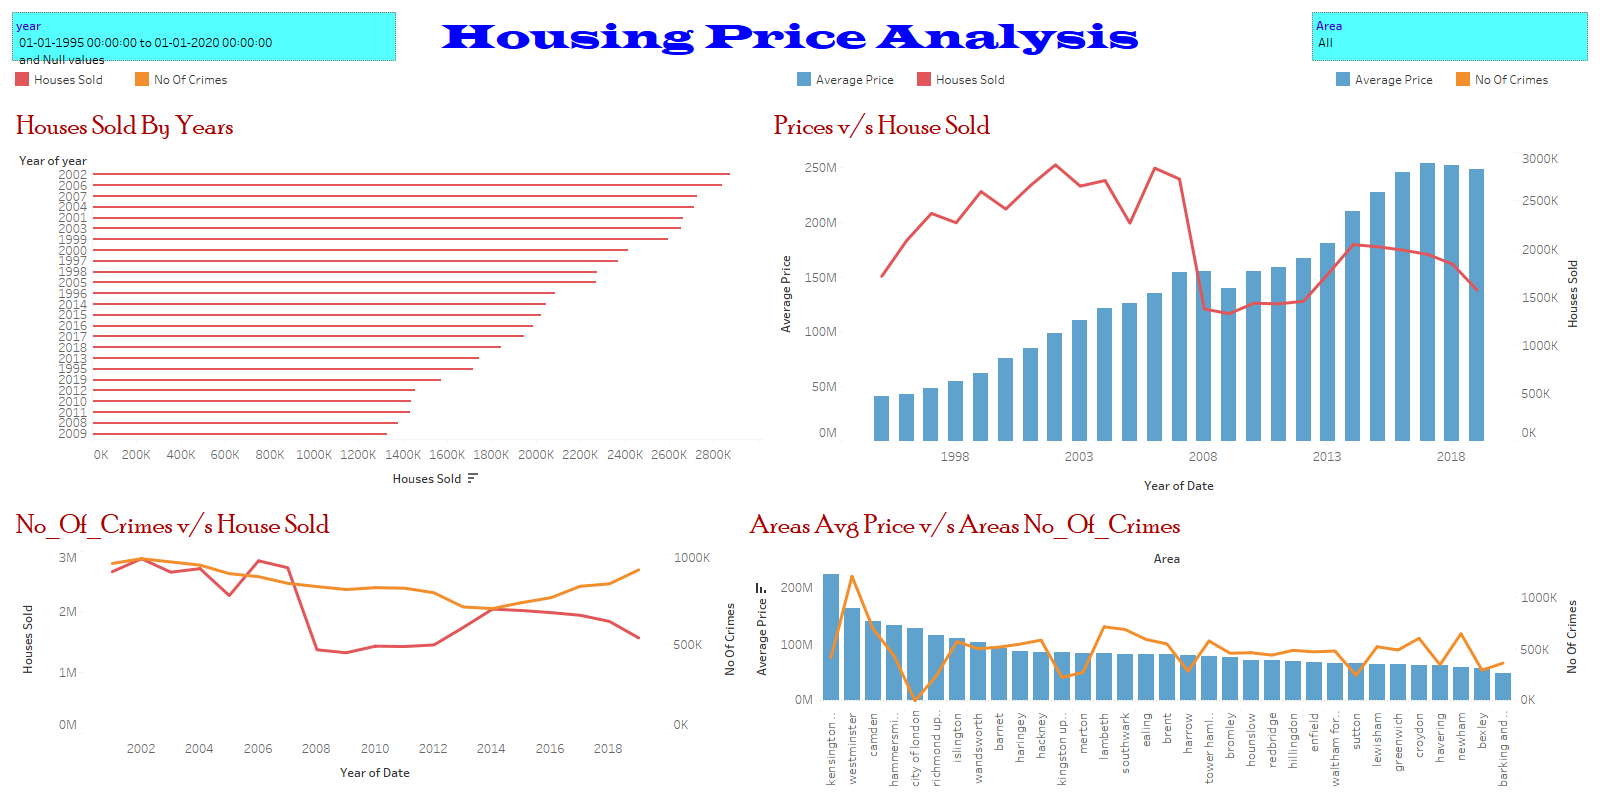

What the dashboard file says about the page in this screenshot:
{"tool":"tableau","page":{"name":"Dashboard 1","canvas":[1600,800],"ordinal":0},"visuals":[{"type":"filter","title":"Sheet 8","param":"[federated.1np54c31tf33lu107bm5r0kuviu3].[none:Calculation_979532970923896832:qk","box":[8,8,395.8,57.3]},{"type":"worksheet","title":"Sheet 8","mark":"Automatic","box":[403.8,8,30.1,57.3]},{"type":"text","box":[433.9,8,873.8,57.3]},{"type":"filter","title":"Sheet 8","param":"[federated.1np54c31tf33lu107bm5r0kuviu3].[none:area:nk]","box":[1307.7,8,284.3,57.3]},{"type":"legend","title":"Sheet 2","param":"[federated.1np54c31tf33lu107bm5r0kuviu3].[:Measure Names]","box":[8,65.3,710,33.5]},{"type":"legend","title":"Sheet 3","param":"[federated.1np54c31tf33lu107bm5r0kuviu3].[:Measure Names]","box":[718,65.3,539,33.5]},{"type":"legend","title":"Sheet 4","param":"[federated.1np54c31tf33lu107bm5r0kuviu3].[:Measure Names]","box":[1257,65.3,335,33.5]},{"type":"worksheet","title":"Sheet 1","mark":"Bar","rows":["Calculation_979532970923896832"],"cols":["houses_sold"],"box":[8,98.8,758,399]},{"type":"worksheet","title":"Sheet 3","mark":"Automatic","rows":["average_price","houses_sold"],"cols":["date"],"box":[766,98.8,826,399.2]},{"type":"worksheet","title":"Sheet 2","mark":"Automatic","rows":["houses_sold","no_of_crimes"],"cols":["date"],"box":[8,498,733.5,294]},{"type":"worksheet","title":"Sheet 4","mark":"Automatic","rows":["average_price","no_of_crimes"],"cols":["area"],"box":[741.5,498,850.5,294]}]}

Visuals, with their boxes in screenshot pixels (x1, y1, x2, y2), scaled from the page's 1600x800 canvas onto the 1600x800 screenshot:
"Sheet 8" filter: detection(8, 8, 404, 65)
"Sheet 8" worksheet: detection(404, 8, 434, 65)
text: detection(434, 8, 1308, 65)
"Sheet 8" filter: detection(1308, 8, 1592, 65)
"Sheet 2" legend: detection(8, 65, 718, 99)
"Sheet 3" legend: detection(718, 65, 1257, 99)
"Sheet 4" legend: detection(1257, 65, 1592, 99)
"Sheet 1" worksheet (Bar marks): detection(8, 99, 766, 498)
"Sheet 3" worksheet: detection(766, 99, 1592, 498)
"Sheet 2" worksheet: detection(8, 498, 742, 792)
"Sheet 4" worksheet: detection(742, 498, 1592, 792)
